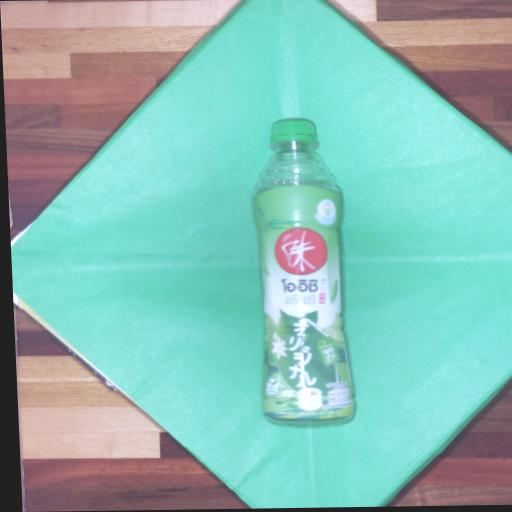bottle: (254, 119, 353, 421)
